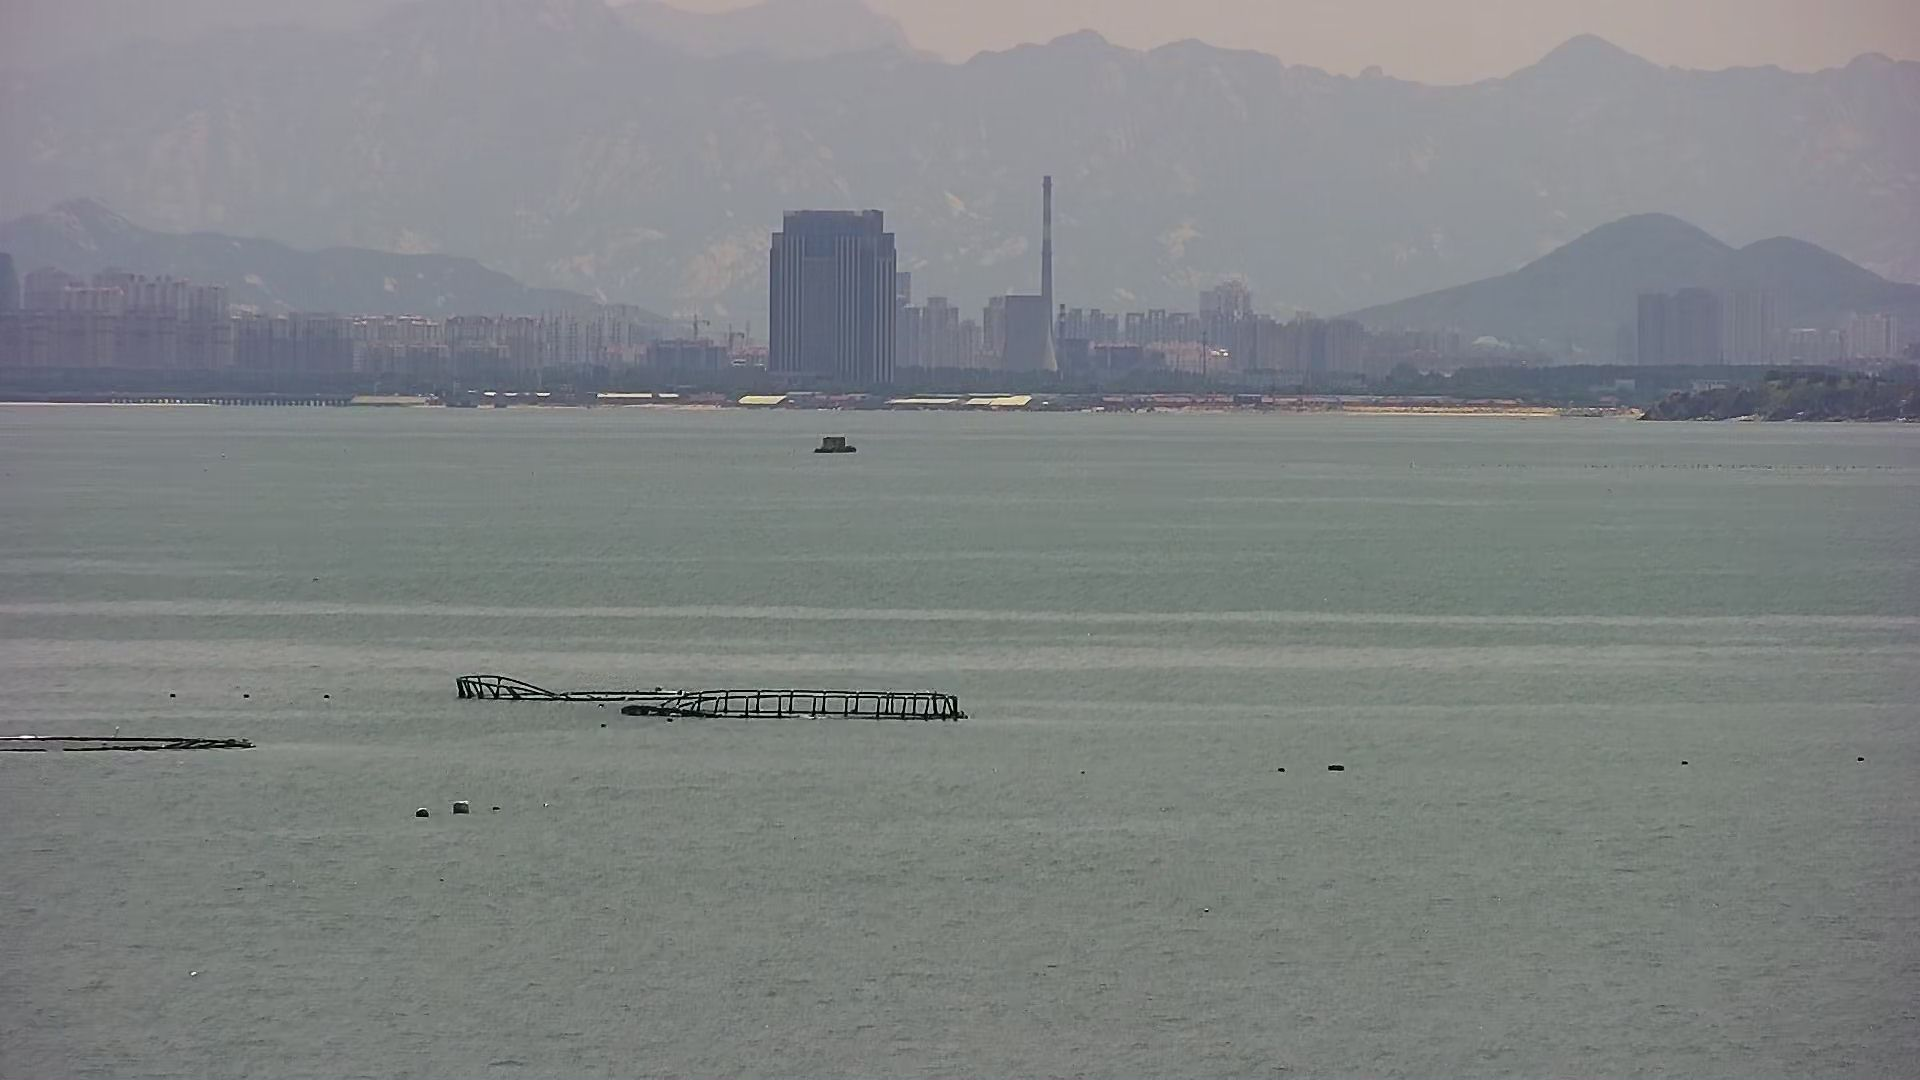ball: (451, 795, 473, 819), (411, 804, 433, 820)
platform: (814, 431, 862, 452)
rubbish: (448, 667, 973, 727), (1, 728, 260, 760)
